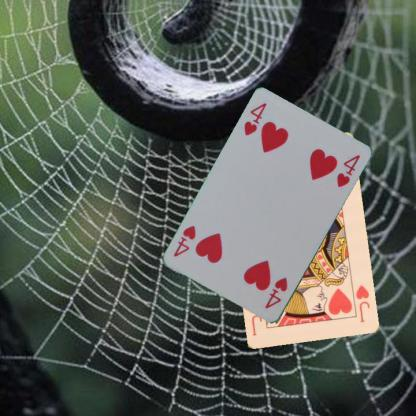4h: (241, 100, 268, 137), (262, 275, 289, 310)
Jh: (353, 282, 370, 324)
